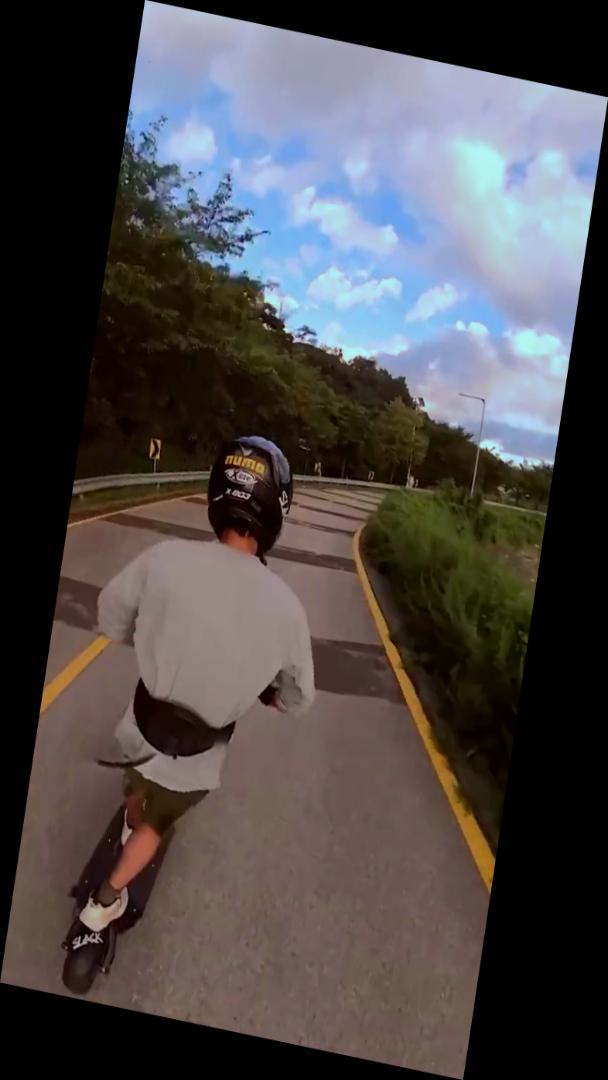helmet: (34, 404, 355, 1039)
